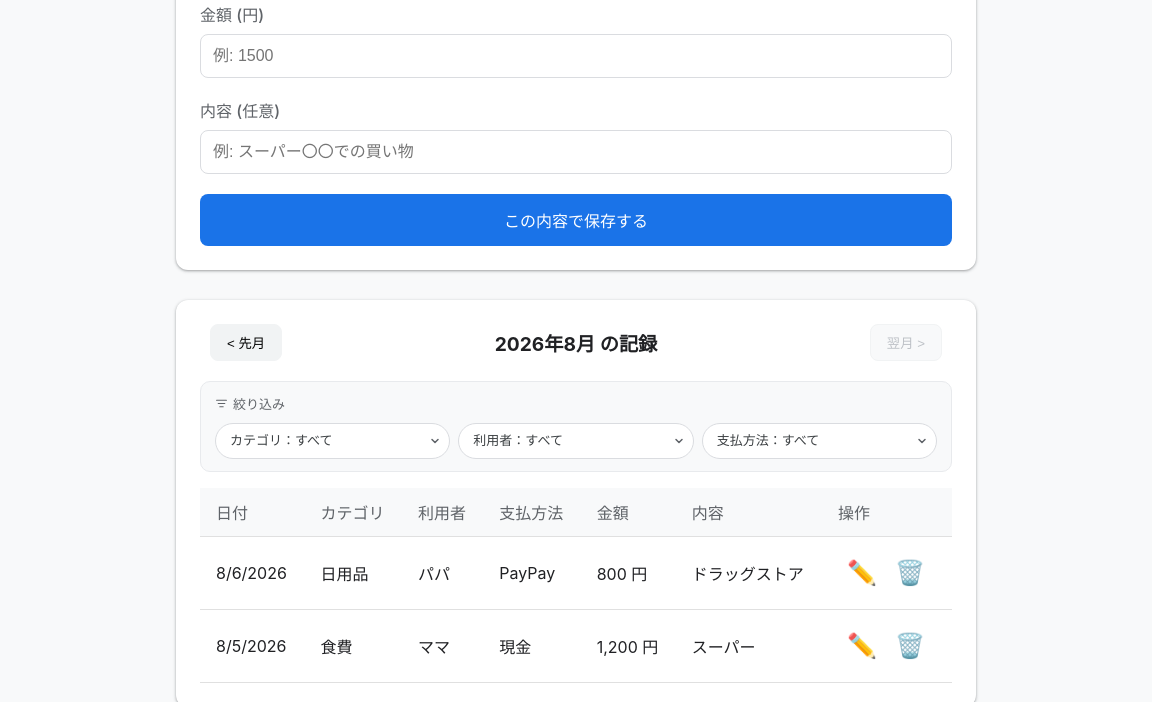
Test case: 月を戻すと当月の記録が消える
(page scrolled)
Expected: the text "スーパー" is shown, [676, 609, 822, 682]
Click the button "< 先月" at (246,343), box [210, 324, 282, 361]
(page scrolled)
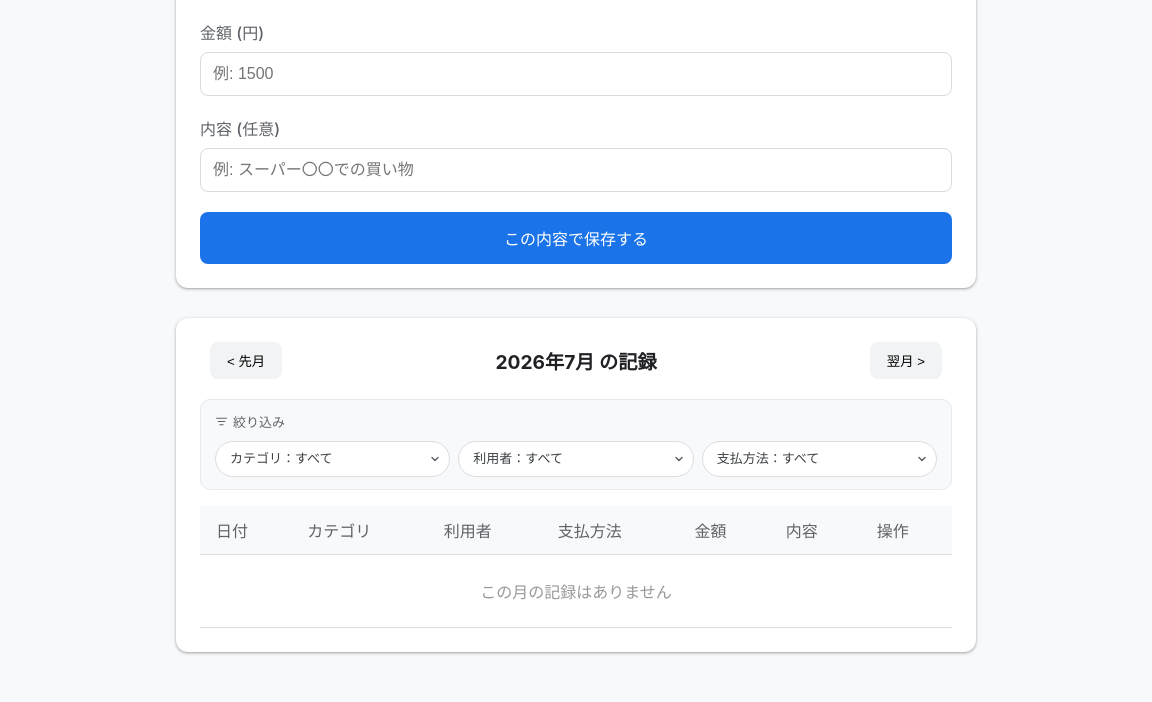
Expected: the text "この月の記録はありません" is shown, [200, 554, 952, 627]
